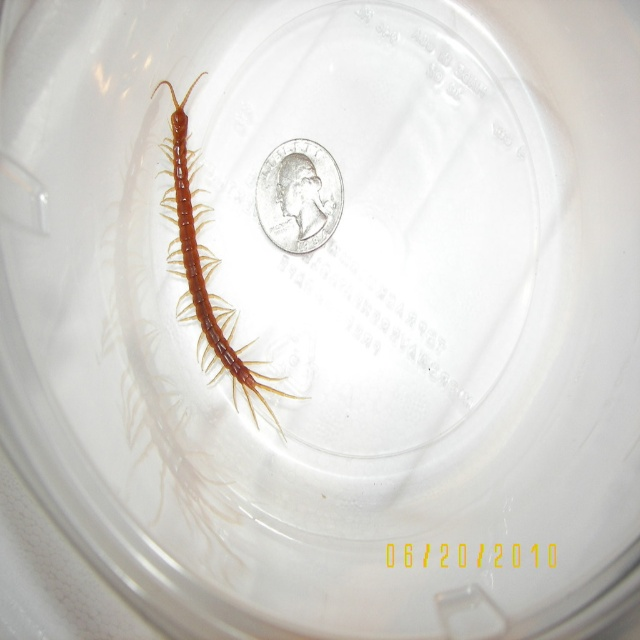Centipede: (148, 71, 308, 442)
